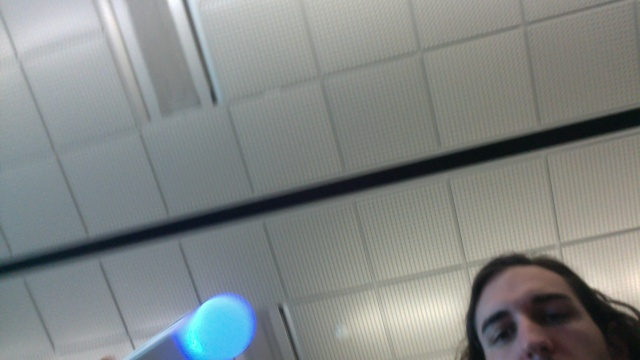wand: (190, 296, 253, 357)
